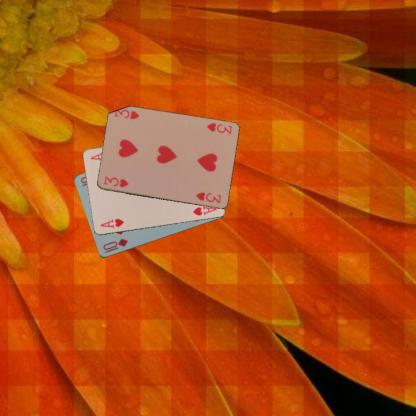10d: (100, 236, 129, 254)
3h: (204, 120, 233, 135), (101, 174, 130, 188)
Ah: (98, 216, 124, 229)
